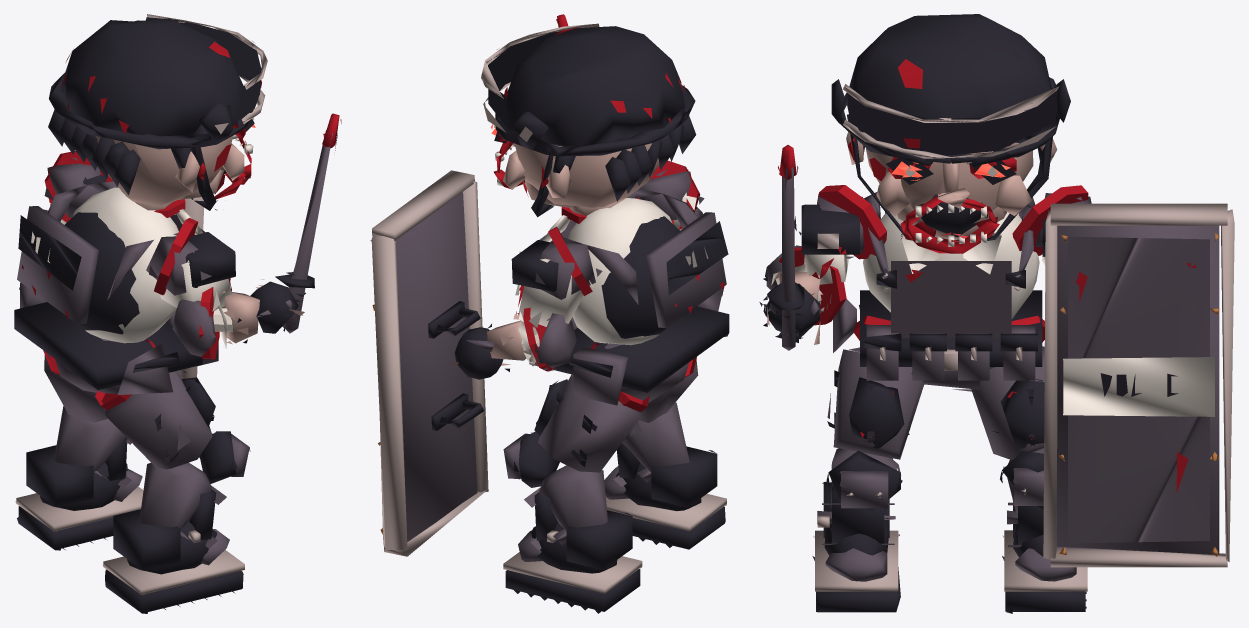
3 renders of one model, left to right at view 1: azimuth 30°, elevation 25°; view 2: azimuth 150°, elevation 25°; view 3: azimuth 270°, elevation 25°, orthographic. The views are drawn at different scales.
Parts seen in each view (by area): view 1: head, torso, footR, hip, footL, legR, shinR, handR, armR, shinL, foreArmR, armL (+5 smaller); view 2: handL, head, torso, footL, hip, footR, shinL, legL, armL, shinR, foreArmL, armR (+4 smaller); view 3: handL, head, torso, hip, footR, legR, shinR, footL, legL, handR, armR, shinL (+4 smaller).
Boxes of the visible parts, left/top/right/bottom form: head: left=48, top=14, right=267, bottom=210; torso: left=17, top=181, right=205, bottom=343; footR: left=102, top=509, right=244, bottom=613; hip: left=14, top=282, right=218, bottom=394; footL: left=15, top=445, right=143, bottom=550; legR: left=103, top=371, right=215, bottom=469; shinR: left=139, top=431, right=250, bottom=549; handR: left=250, top=113, right=341, bottom=333; armR: left=146, top=232, right=235, bottom=311; shinL: left=54, top=406, right=131, bottom=488; foreArmR: left=172, top=290, right=285, bottom=356; armL: left=44, top=157, right=108, bottom=224; handL: left=370, top=170, right=503, bottom=556; head: left=481, top=23, right=696, bottom=217; torso: left=519, top=189, right=728, bottom=345; footL: left=503, top=510, right=642, bottom=613; hip: left=529, top=287, right=729, bottom=405; footR: left=604, top=446, right=726, bottom=549; shinL: left=503, top=431, right=607, bottom=550; legL: left=534, top=374, right=643, bottom=472; armL: left=511, top=240, right=602, bottom=327; shinR: left=613, top=402, right=689, bottom=486; foreArmL: left=466, top=311, right=576, bottom=371; armR: left=638, top=169, right=704, bottom=230; handL: left=1043, top=203, right=1234, bottom=567; head: left=831, top=14, right=1070, bottom=253; torso: left=863, top=192, right=1039, bottom=337; hip: left=833, top=290, right=1042, bottom=391; footR: left=812, top=481, right=900, bottom=612; legR: left=827, top=347, right=924, bottom=459; shinR: left=821, top=448, right=902, bottom=550; footL: left=1002, top=502, right=1087, bottom=613; legL: left=971, top=346, right=1044, bottom=459; handR: left=763, top=145, right=827, bottom=350; armR: left=794, top=194, right=863, bottom=284; shinL: left=1000, top=448, right=1043, bottom=552.
Size of the model in its own units: 0.7984 by 1.8 by 1.35.
